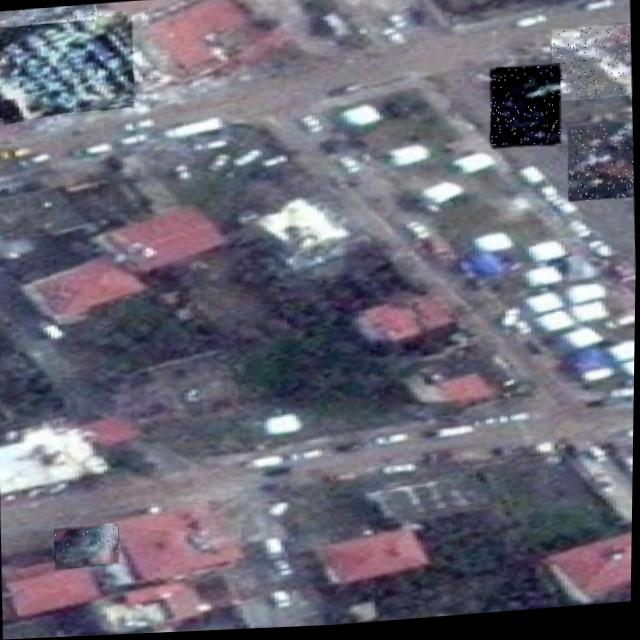Rubble: (0, 14, 134, 121), (550, 29, 632, 107), (487, 68, 562, 153), (565, 127, 635, 207), (54, 525, 120, 570), (0, 5, 95, 27)
